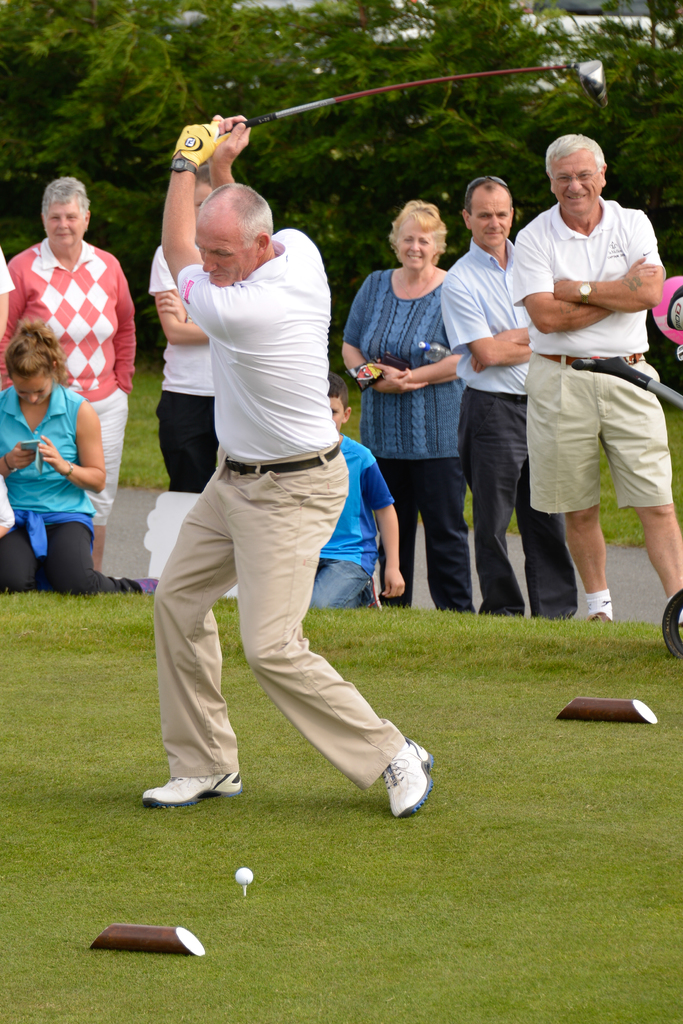Person: (323, 131, 682, 612), (0, 175, 136, 590), (309, 372, 407, 614), (150, 156, 207, 492)
